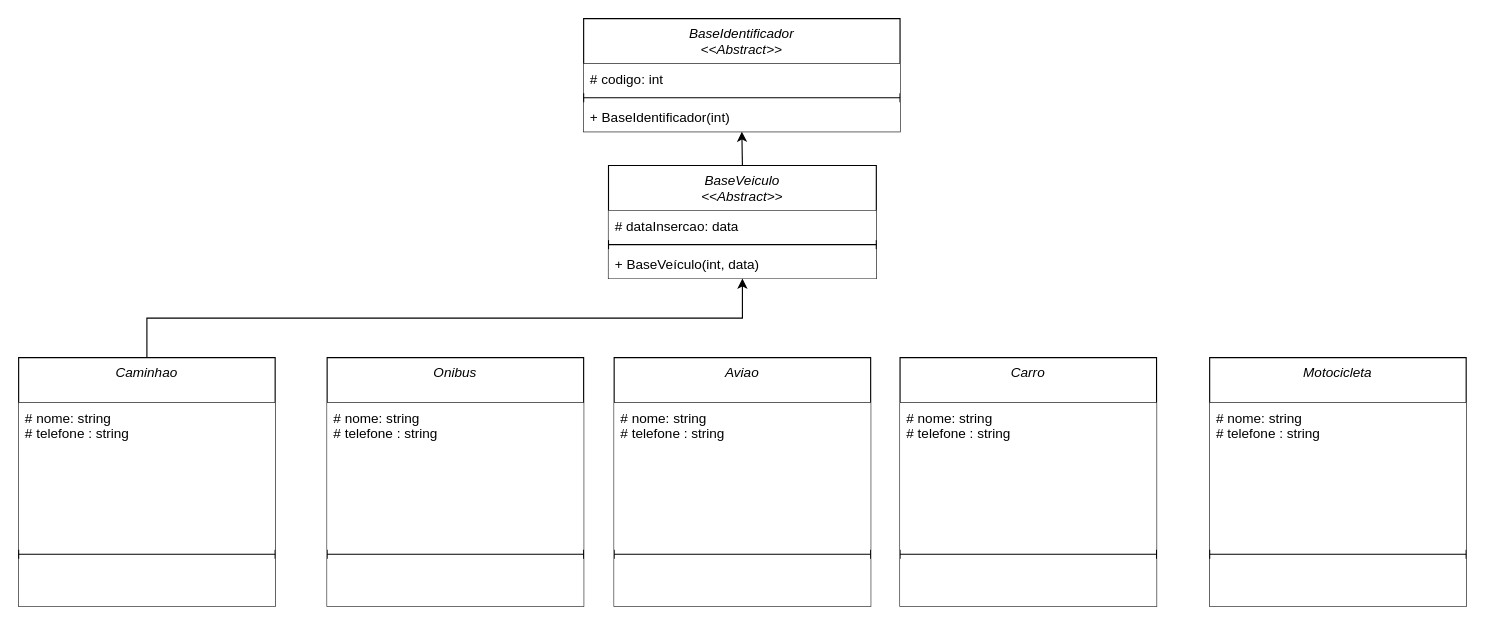
Image size: 1485x625. Some labels were removed from this diagram. Here are the shapes that lost their labels. From the top down, the box of each, then its label:
(18, 558, 275, 606): + Caminhao()
(327, 558, 583, 606): + Onibus
(614, 558, 870, 606): + Aviao
(899, 558, 1156, 606): + Carro
(1209, 558, 1466, 606): + Motocicleta
